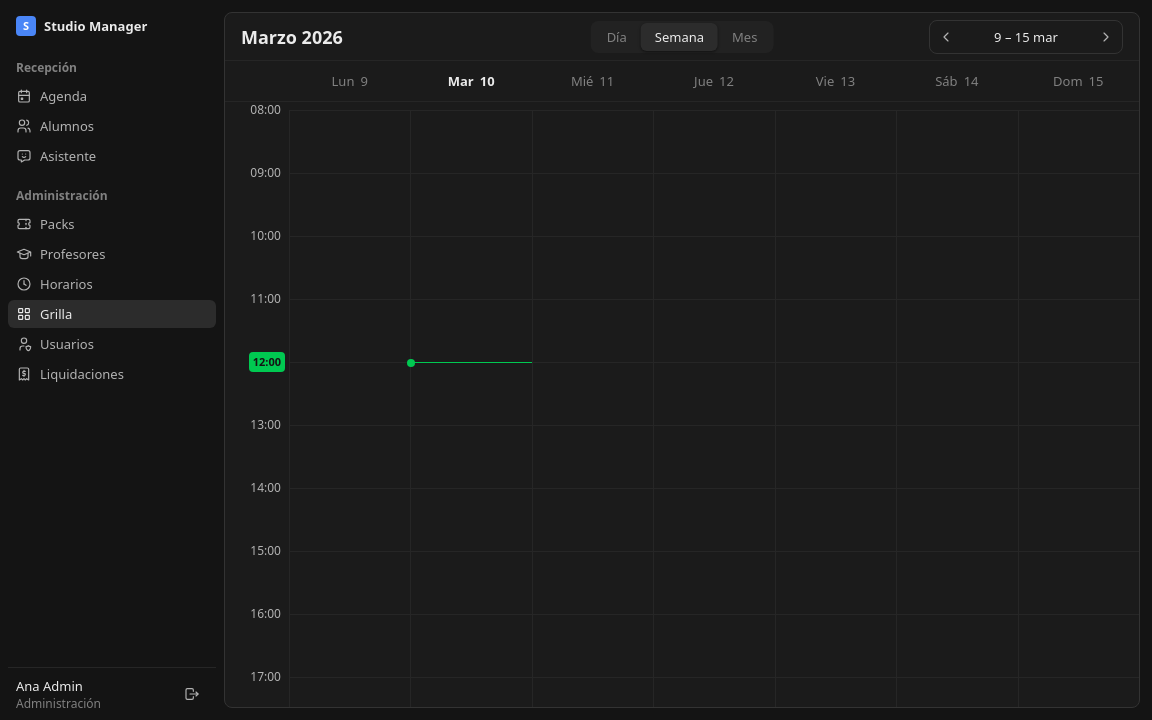
Scenario: /grilla › las flechas pasan de semana y fuera de la de hoy aparece "Volver a esta semana", que vuelve a ella
The image size is (1152, 720).
Expected: the text "9 – 15 mar" is shown, [994,28,1058,46]
Click the button named "Semana siguiente".
click(1106, 36)  # box [1090,20,1122,52]
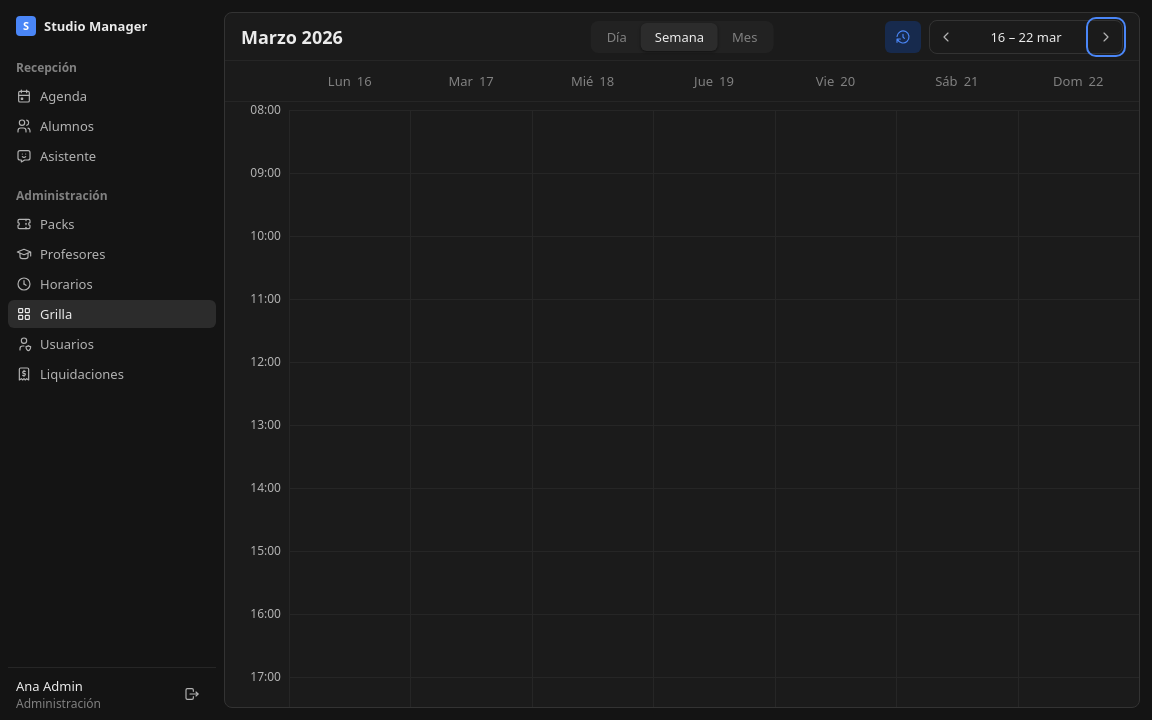
Expected: the element named "Lunes 16" is shown, [289,110,410,707]
Expected: the text "16 – 22 mar" is shown, [990,28,1062,46]
Click the button named "Volver a esta semana".
click(903, 36)  # box [885,20,921,52]
(page scrolled)
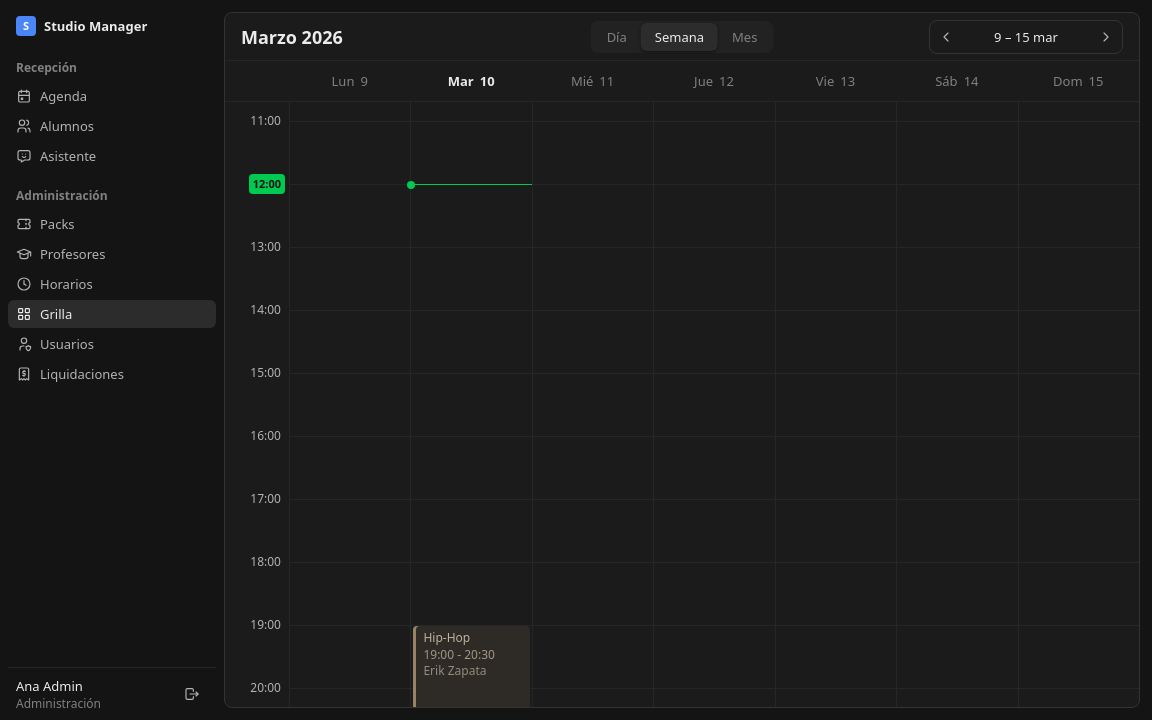
Expected: the element named "Lunes 9" is shown, [289,102,410,707]
